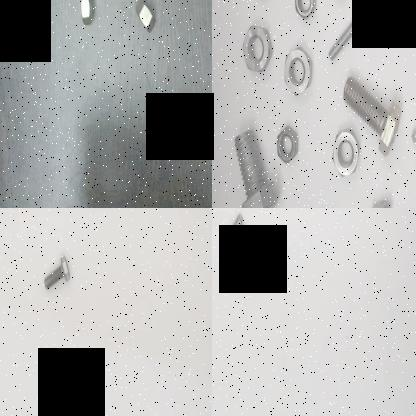Bolts: (344, 70, 402, 158), (231, 121, 277, 208), (328, 1, 366, 73), (44, 248, 74, 300), (229, 210, 259, 258), (369, 191, 406, 208)
NUTS: (280, 40, 318, 104), (240, 16, 276, 82), (332, 127, 364, 179), (274, 119, 302, 167), (130, 0, 160, 40), (390, 0, 416, 31), (292, 0, 318, 26), (79, 0, 97, 36)
